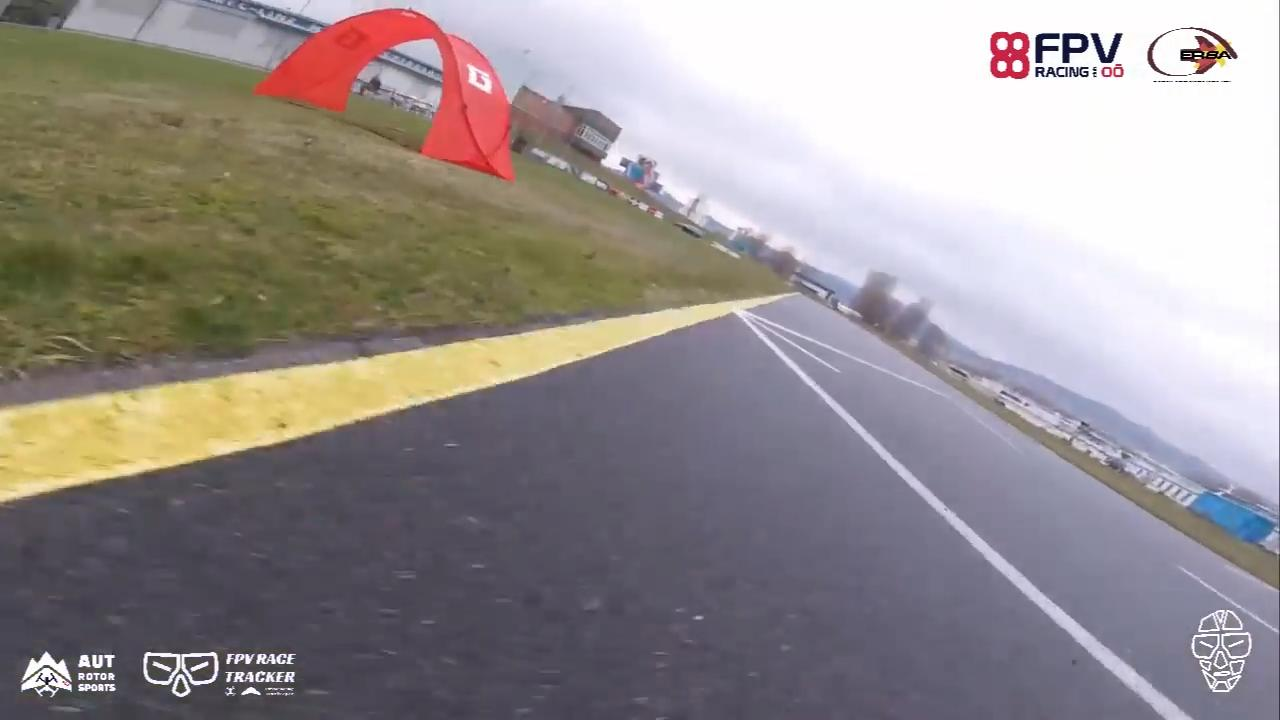gate: (247, 6, 518, 185)
